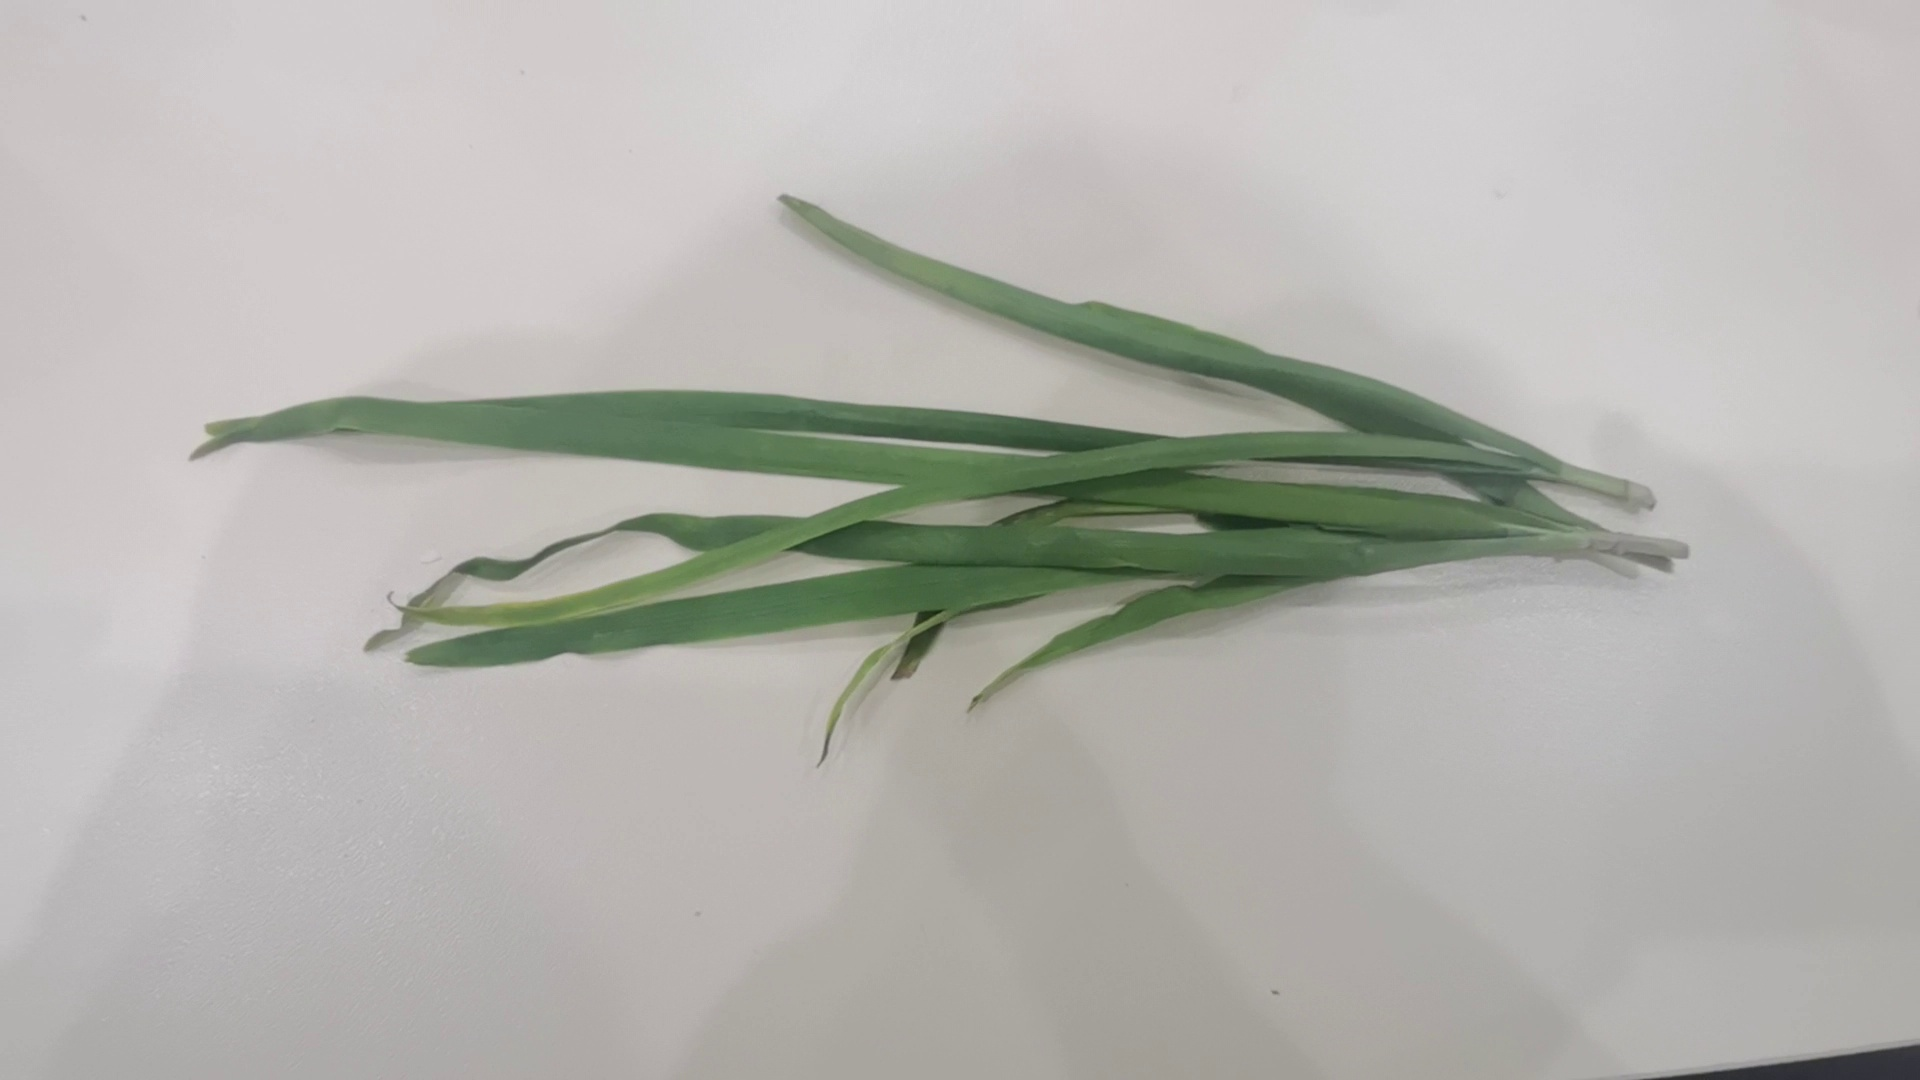chives: (116, 185, 1722, 764)
